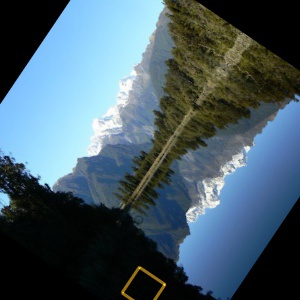square: (119, 264, 168, 300)
